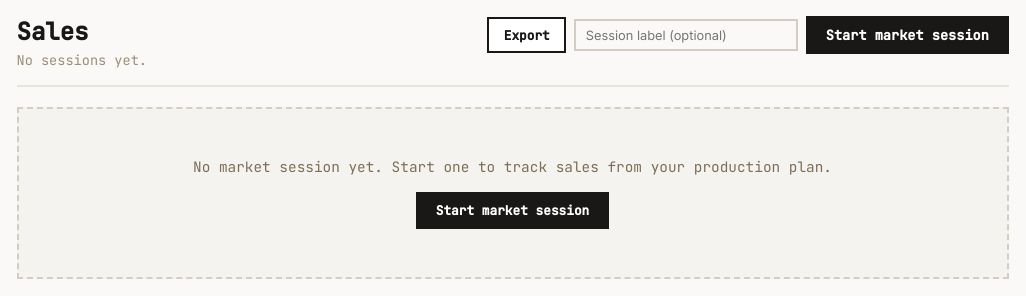
Test: SalesView › shows empty-tx state when active session has no transactions yet
The image size is (1026, 296).
Click the button with test id "sales-start-btn": {"x": 907, "y": 35} [806,16,1008,54]
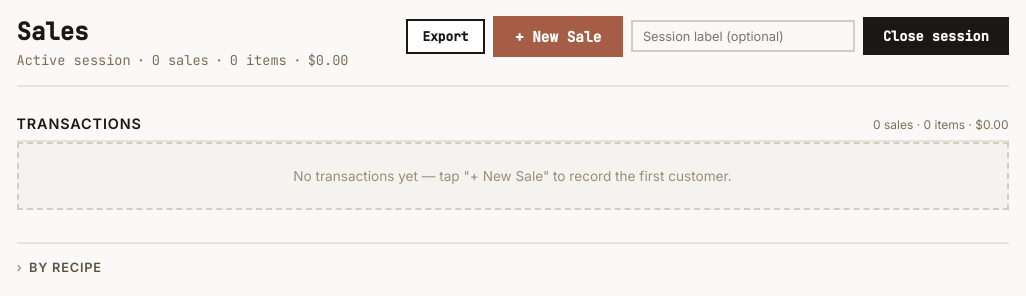
Result: the text with test id "sales-tx-empty" is shown at [16,142,1008,210]
